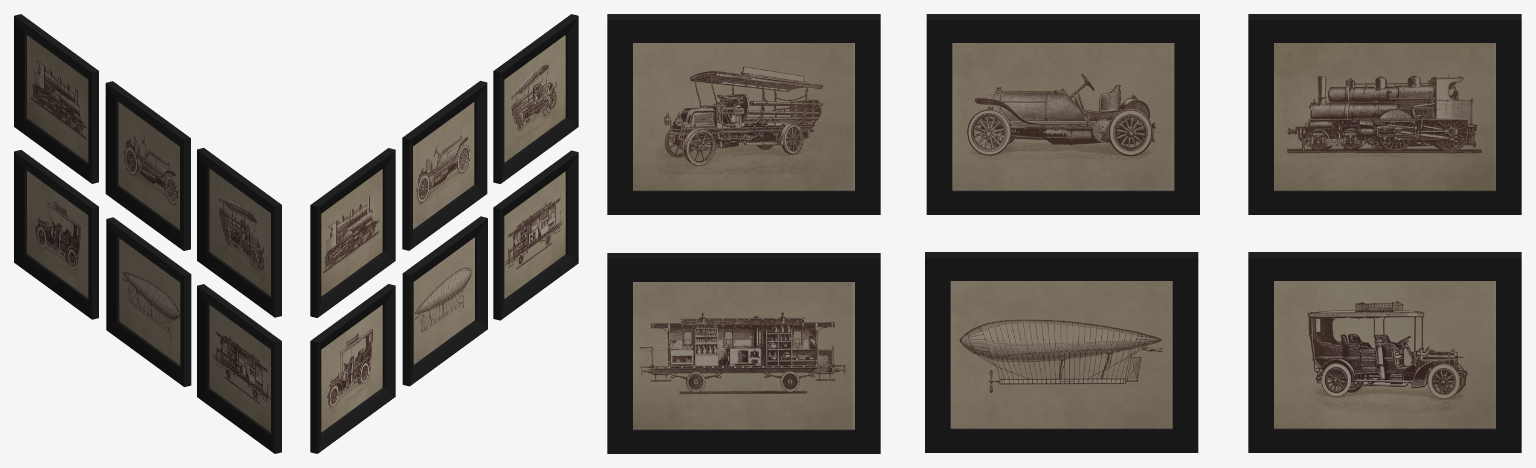
Rendered from Pictures 1.FBX.
3 views of the same model, side by side, from view 1: azimuth 30°, elevation 25°; view 2: azimuth 150°, elevation 25°; view 3: azimuth 270°, elevation 25° (orthographic). The views are drawn at different scales.
Parts seen in each view (by area): view 1: Picture 2, Picture 5, Picture 1, Picture 3, Picture 4, Picture 6; view 2: Picture 6, Picture 2, Picture 5, Picture 1, Picture 3, Picture 4; view 3: Picture 1, Picture 2, Picture 3, Picture 4, Picture 5, Picture 6.
Part boxes in pixels (x1,y1,x2,y2): Picture 2: (105, 81, 190, 250); Picture 5: (106, 217, 191, 386); Picture 1: (14, 14, 98, 183); Picture 3: (197, 148, 281, 317); Picture 4: (14, 150, 98, 319); Picture 6: (197, 284, 281, 453); Picture 6: (493, 150, 578, 320); Picture 2: (402, 80, 487, 250); Picture 5: (402, 216, 487, 386); Picture 1: (310, 148, 395, 317); Picture 3: (493, 14, 578, 183); Picture 4: (310, 284, 395, 453); Picture 1: (1248, 14, 1521, 214); Picture 2: (926, 14, 1199, 214); Picture 3: (607, 14, 880, 214); Picture 4: (1248, 252, 1521, 452); Picture 5: (925, 252, 1198, 452); Picture 6: (607, 253, 880, 453).
Bounding box in the file's own units: 2.02 × 64.56 × 123.
Materials: 1 (1 with a texture image).
